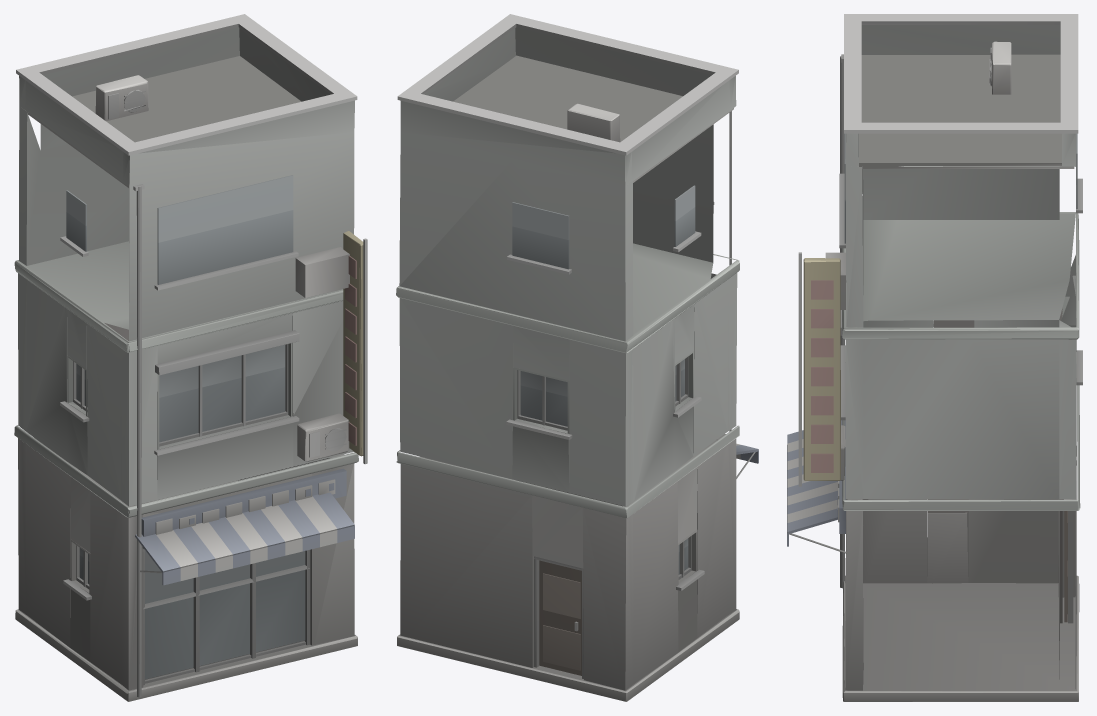
The model's file is shop3.lod1.glb.
The picture shows the model from 3 angles, left to right: view 1: azimuth 30°, elevation 25°; view 2: azimuth 150°, elevation 25°; view 3: azimuth 270°, elevation 25°; orthographic projection. The views are drawn at different scales.
Bounding box in the file's own units: 4.16 × 9.32 × 4.37.
